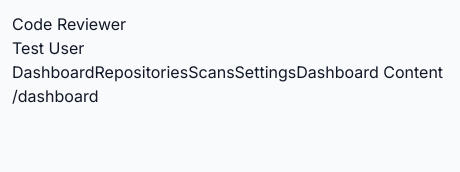
Test: Sidebar Navigation Integration › Navigation Click Behavior › should navigate to scans when clicking Scans link
The width and height of the screenshot is (460, 172).
Click the link with test id "nav-scans". click: click(211, 72)
box: [188,62,235,82]
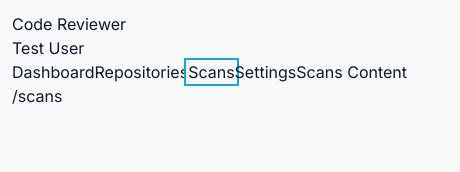
Expected: the text with test id "current-pathname" reads "/scans", [12,86,62,106]
Expected: the text "Scans Content" is shown, [296,60,407,84]
